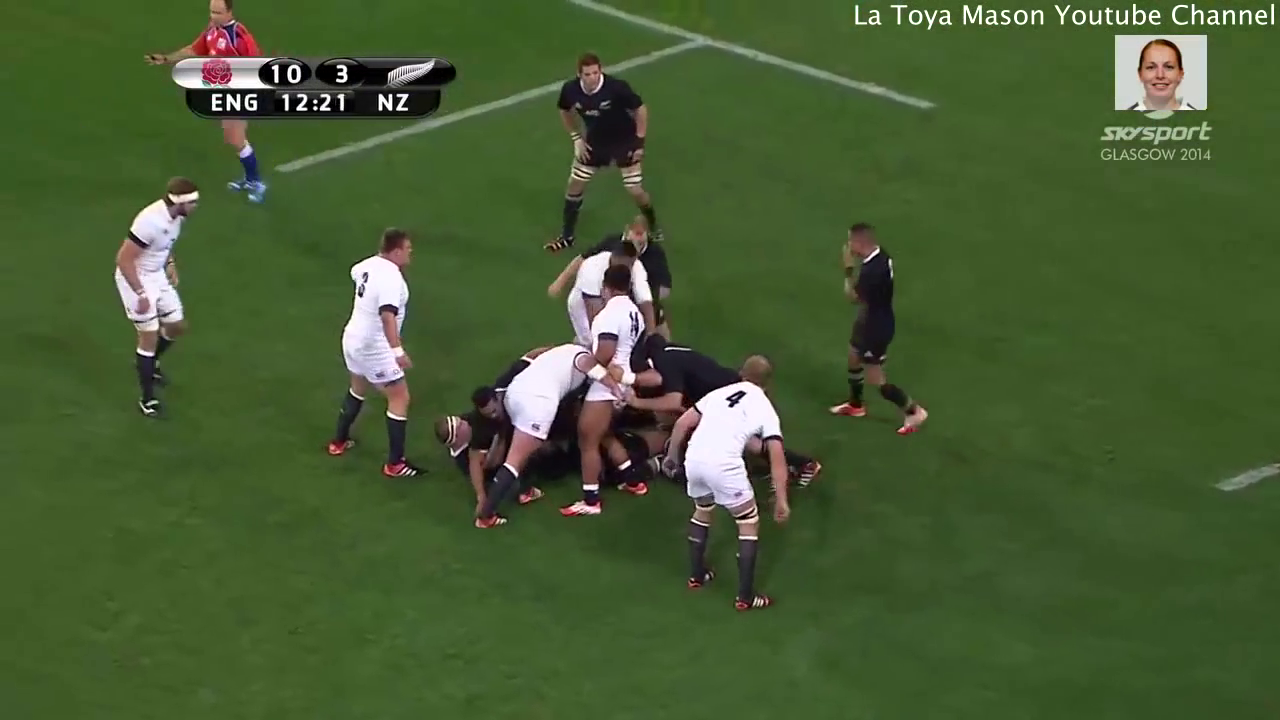player: (681, 352, 805, 618), (320, 227, 429, 488), (539, 52, 665, 259), (827, 215, 938, 444), (468, 339, 589, 532), (111, 167, 200, 428), (561, 264, 644, 518), (642, 325, 727, 399)
ruck: (441, 285, 765, 512)
